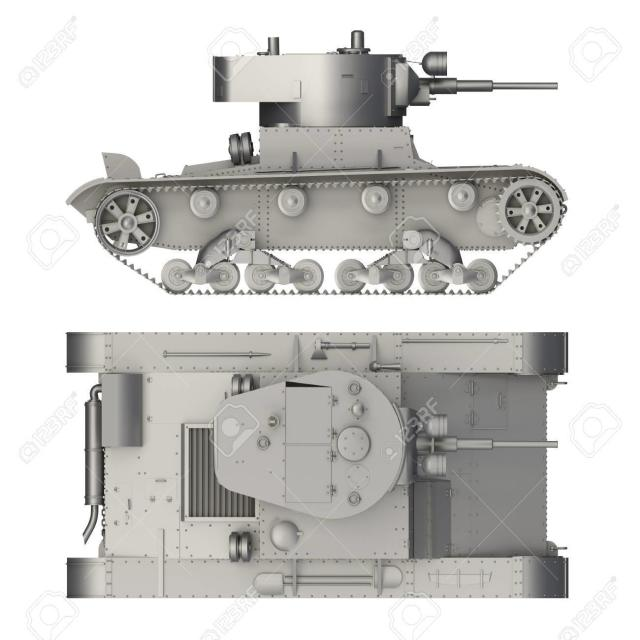Tanks: (61, 326, 578, 611), (70, 30, 570, 301)
